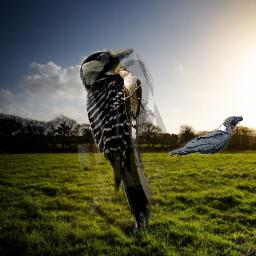Crow: (168, 116, 243, 157)
Cuckoo: (115, 68, 142, 141)
Woodpecker: (78, 48, 170, 235)
